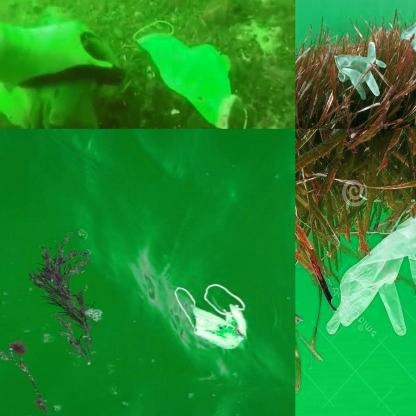Mask: (132, 21, 247, 126), (175, 280, 255, 350)
glove: (322, 195, 416, 342), (332, 40, 387, 100), (401, 20, 416, 71)
